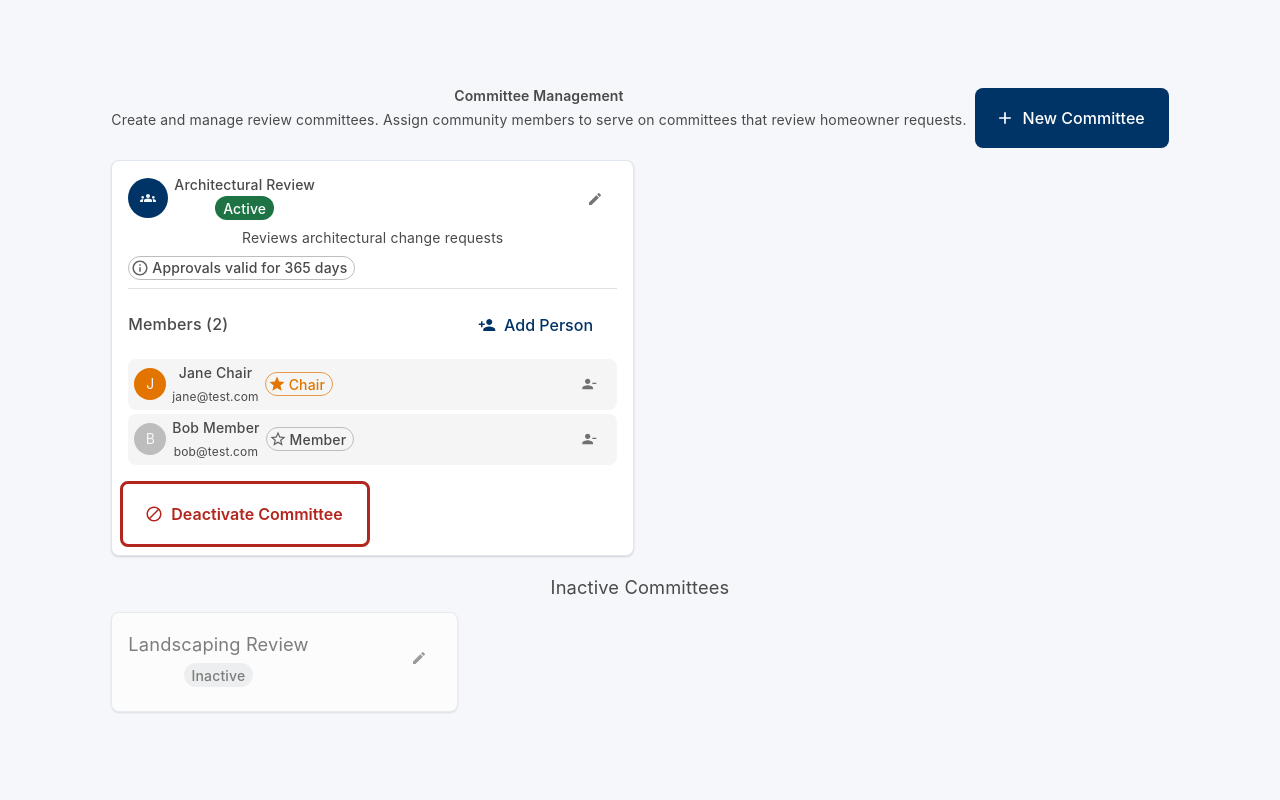
Test: CommitteeManagementPage › opens create dialog with helpful text
The width and height of the screenshot is (1280, 800).
Click the button "New Committee". click: click(1072, 118)
box: [975,88,1169,148]
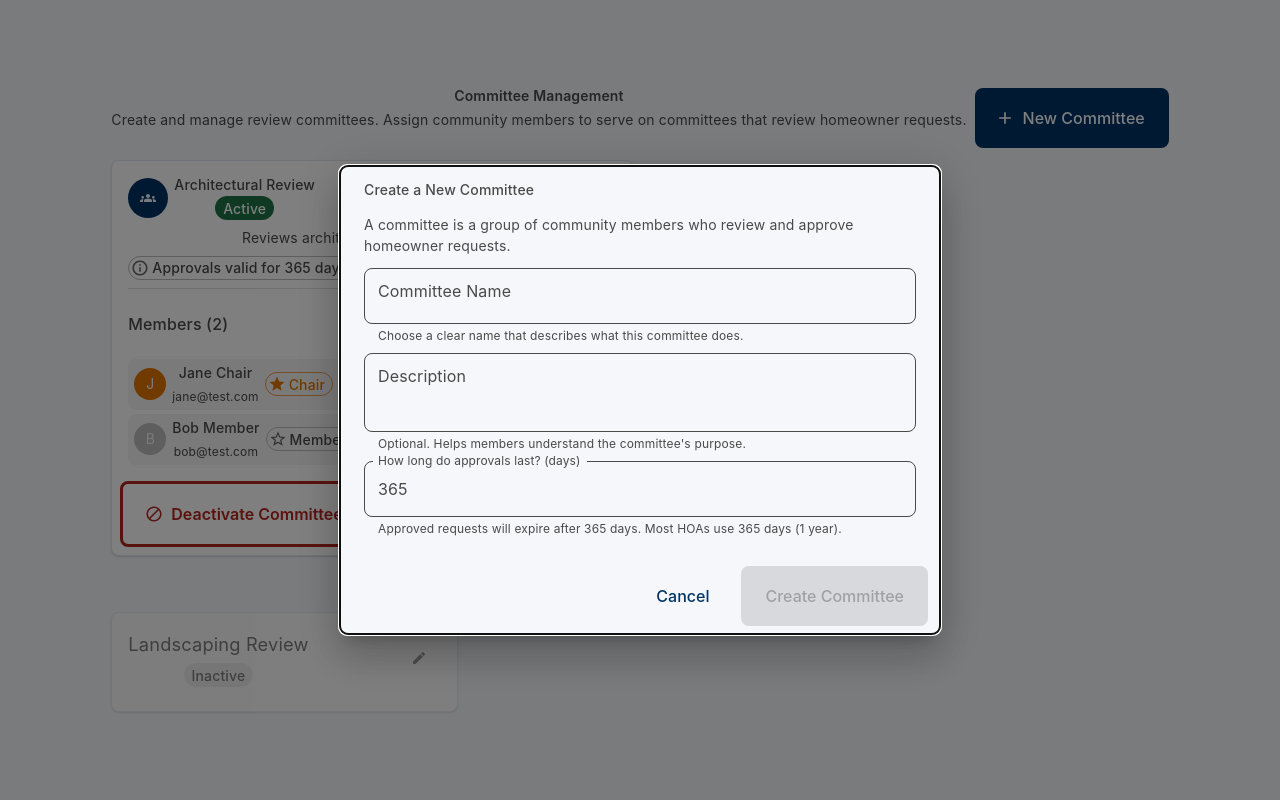
Now the heading "Create a New Committee" is shown, box [364,181,534,198]
Now the text "A committee is a group" is shown, box [364,216,854,254]
Now the field labelled "Committee Name" is shown, box [364,268,916,324]
